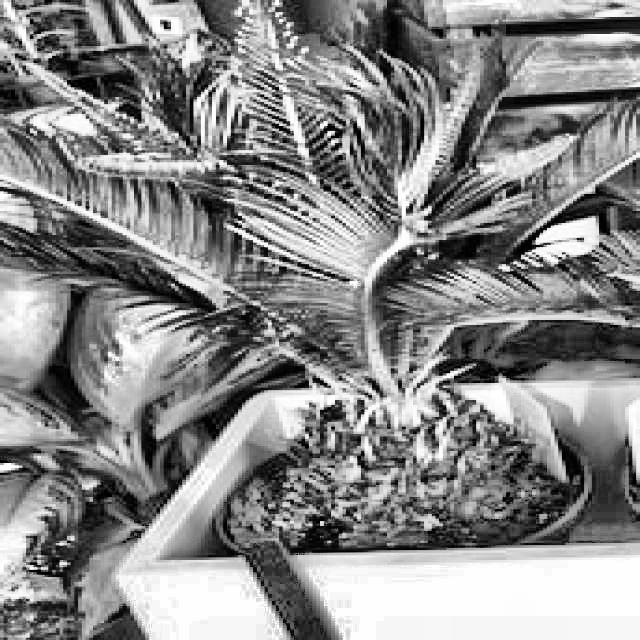plants: (64, 56, 554, 517)
